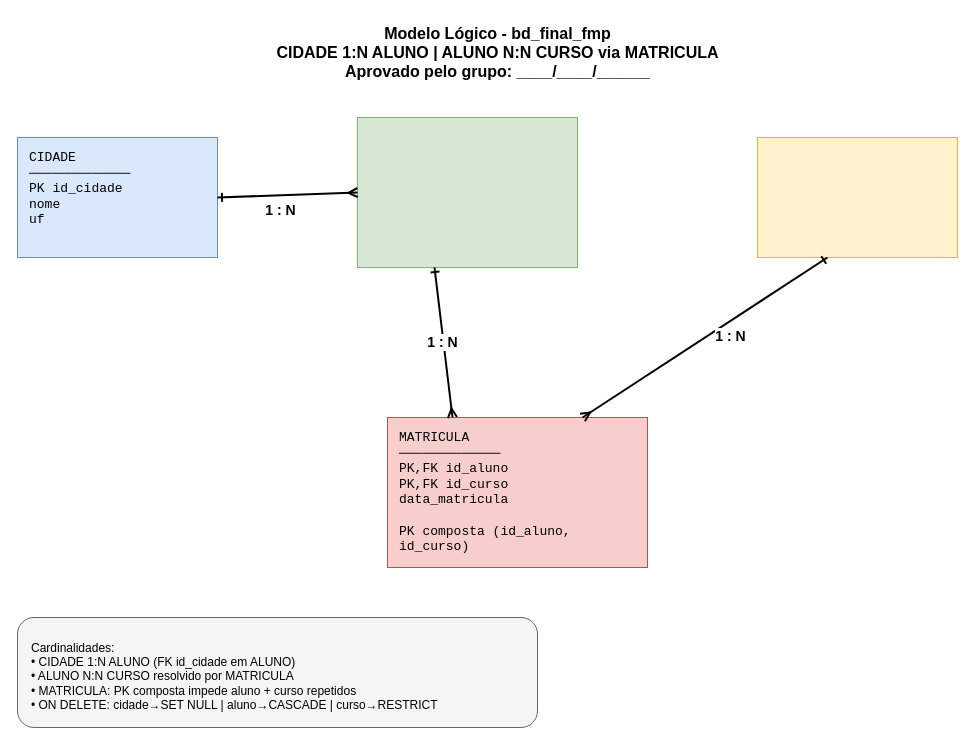
This 975x745 diagram has some shape labels left out. The shapes that lost their labels are listed below. From the top down, each one's box as (x1, y1, x2, y2) in pixels, then its label:
(356, 116, 578, 268): ALUNO ───────────── PK id_aluno nome email data_nascimento FK id_cidade
(756, 136, 958, 258): CURSO ───────────── PK id_curso nome sigla
